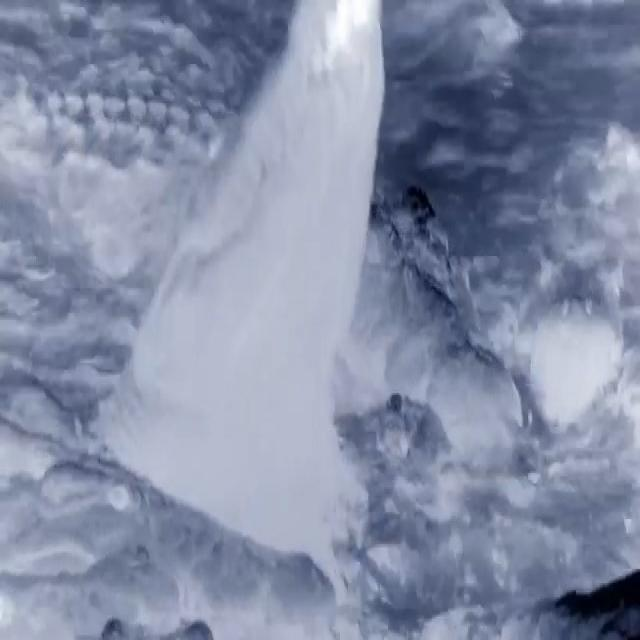animal: (1, 0, 534, 484)
